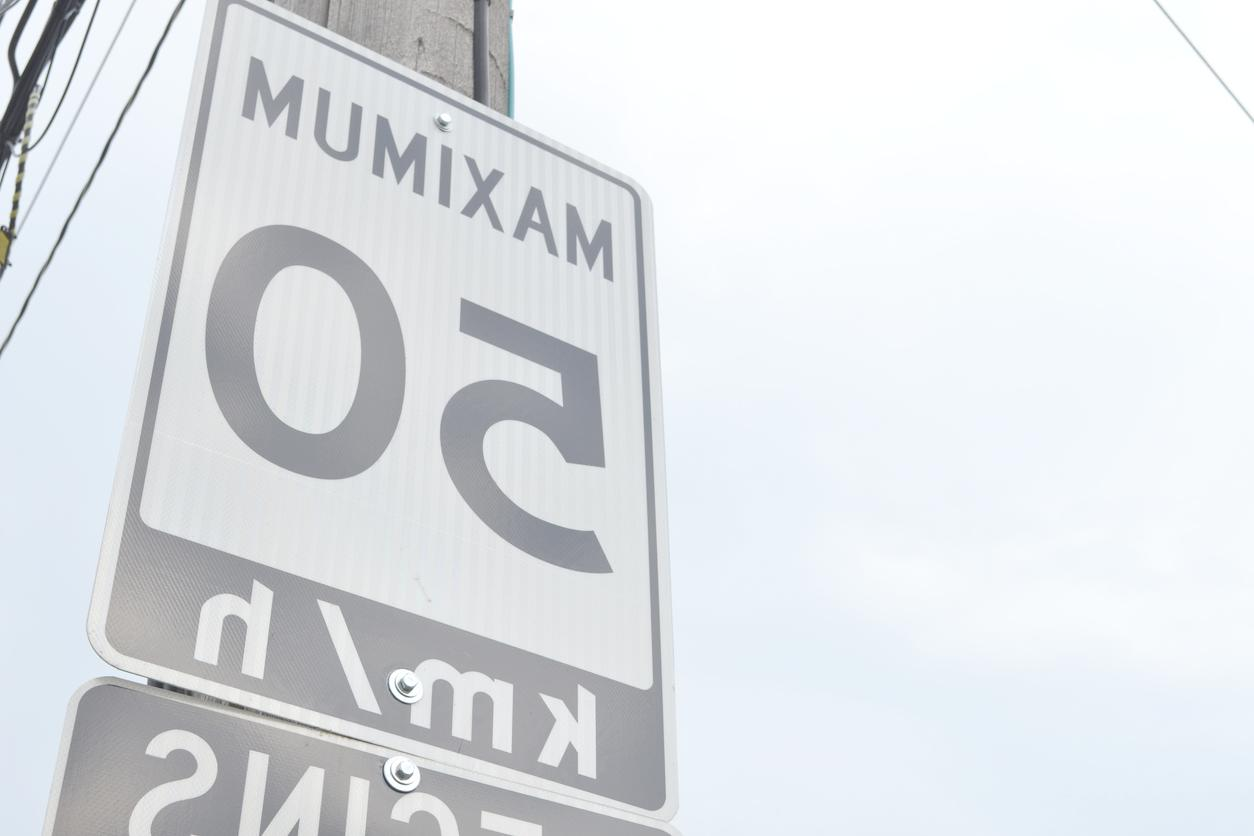speed limit sign: (176, 44, 671, 747)
